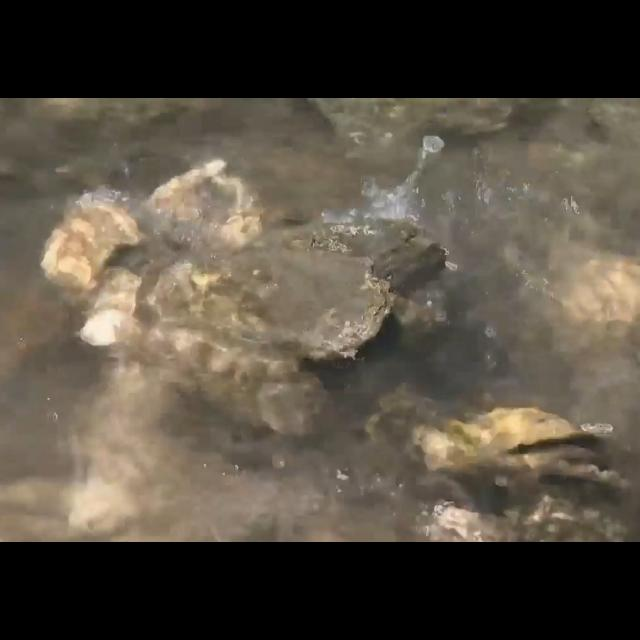Oyster-Closed: (147, 240, 395, 358), (144, 320, 326, 440), (40, 188, 142, 292), (308, 217, 448, 291)
Oyster-Open: (427, 405, 613, 485)
